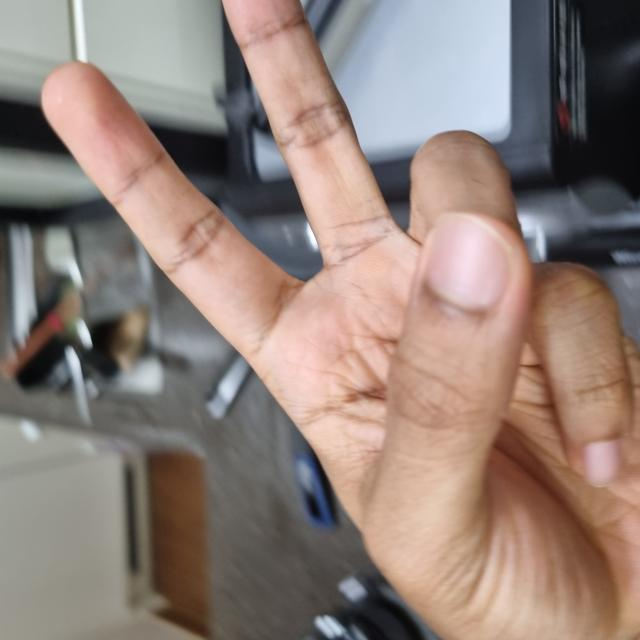Scissors: (0, 38, 640, 640)
